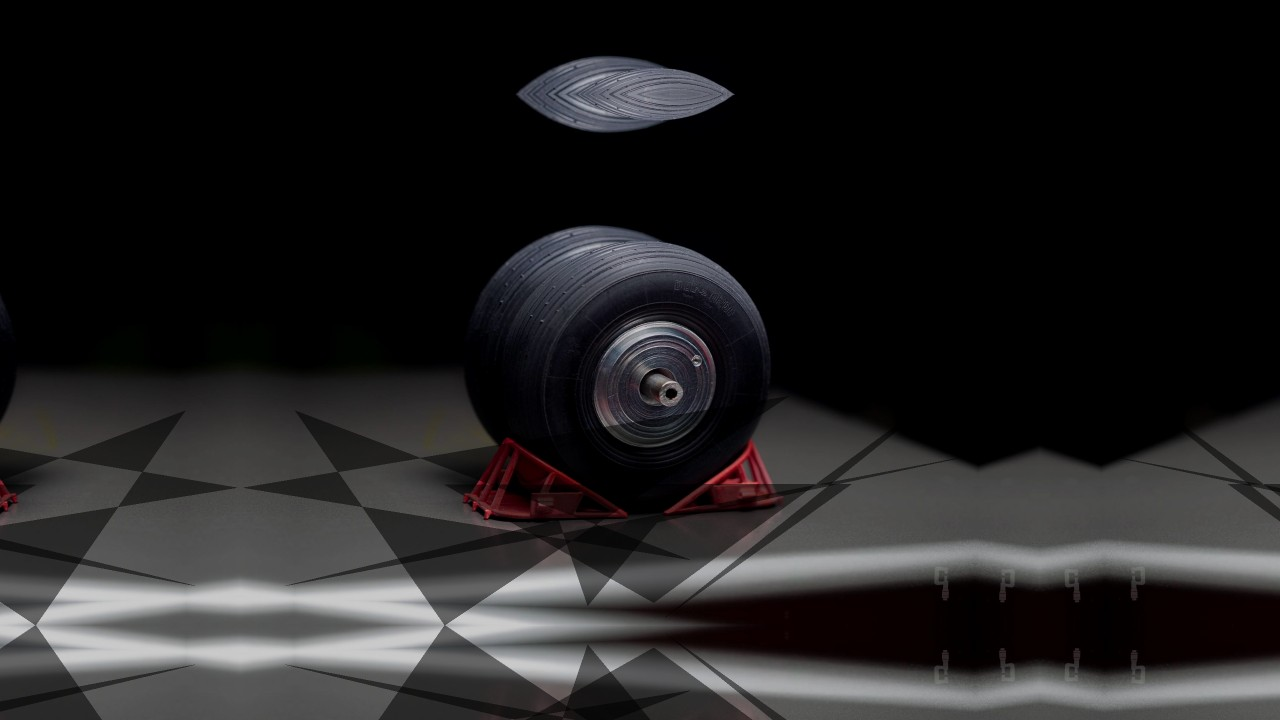chock: (463, 437, 631, 525), (660, 435, 786, 521)
wheel: (494, 235, 776, 521), (460, 222, 690, 493)
